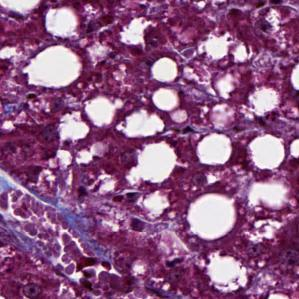steatosis: (183, 191, 240, 241)
